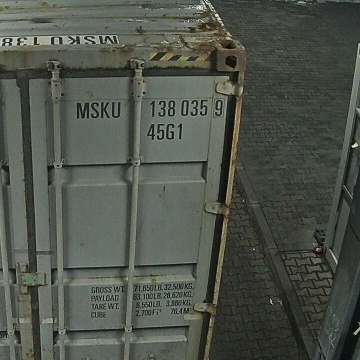serial_id: (77, 100, 223, 118)
